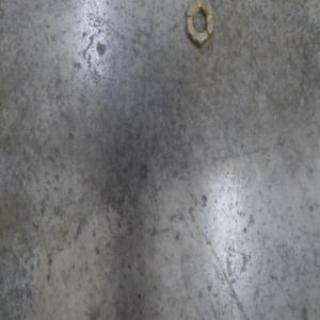Nuttrack_idkeyframe: (185, 0, 215, 48)
